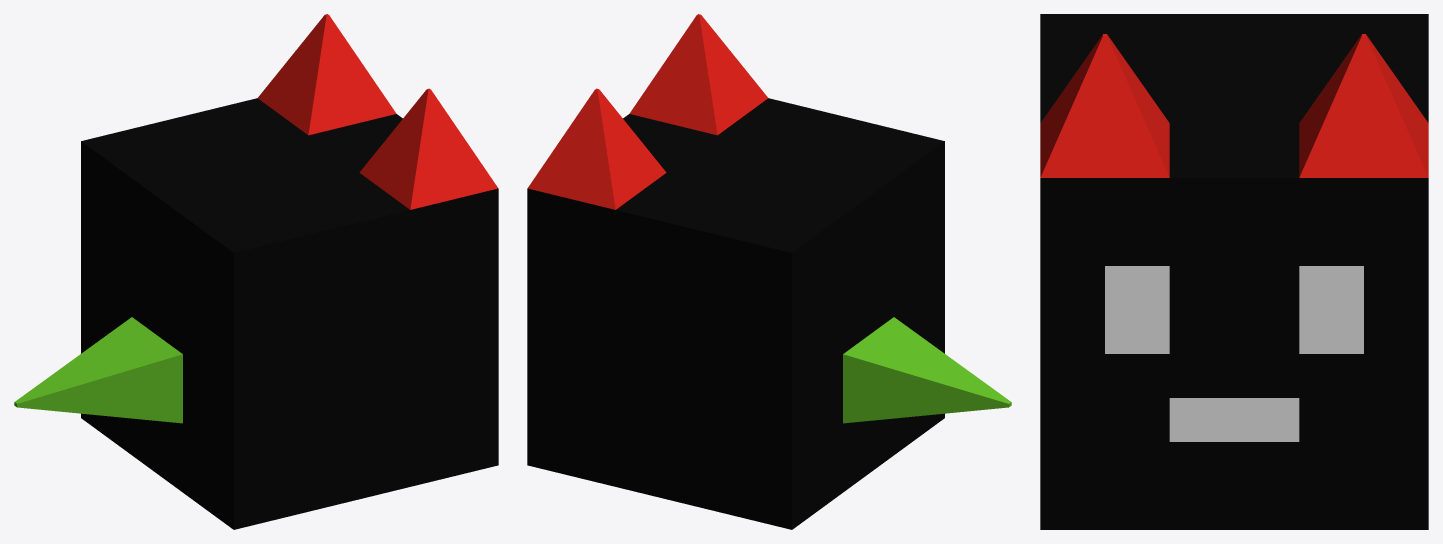
The model's file is cat.fbx.
The picture shows the model from 3 angles, left to right: view 1: azimuth 30°, elevation 25°; view 2: azimuth 150°, elevation 25°; view 3: azimuth 270°, elevation 25°; orthographic projection. The views are drawn at different scales.
Visible parts, largest first — view 1: Cube; view 2: Cube; view 3: Cube.
Boxes of the visible parts, x1,y1,x2,y2 form: Cube: [14, 14, 498, 529]; Cube: [527, 14, 1011, 529]; Cube: [1040, 14, 1428, 529].
Size of the model in its own units: 307 by 266 by 200.
